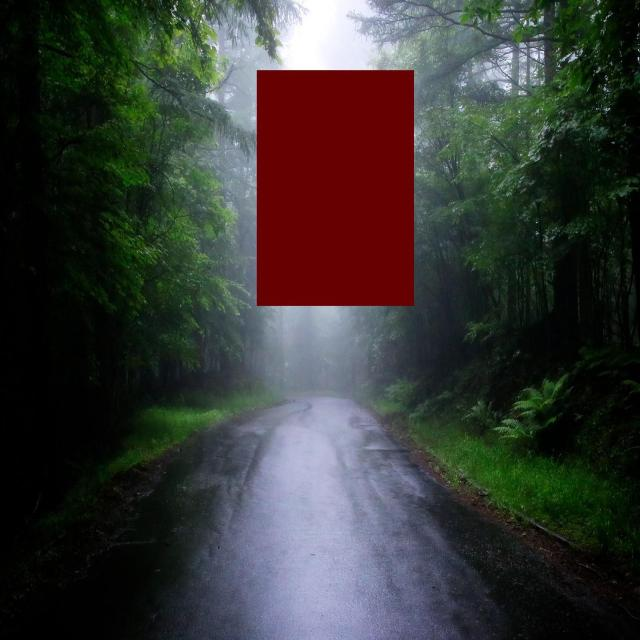RedSquare: (252, 62, 419, 315)
